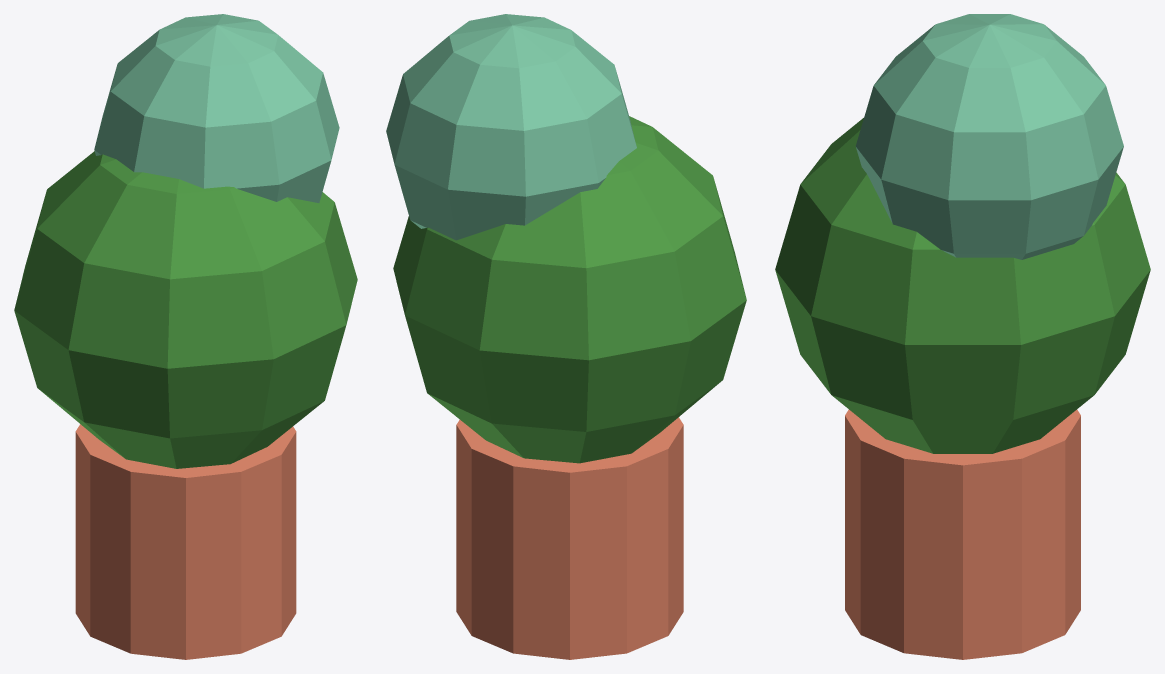
The model's file is int_tanaman.fbx.
3 views of the same model, side by side, from view 1: azimuth 30°, elevation 25°; view 2: azimuth 150°, elevation 25°; view 3: azimuth 270°, elevation 25° (orthographic). The views are drawn at different scales.
Parts seen in each view (by area): view 1: int_tanaman; view 2: int_tanaman; view 3: int_tanaman.
Part boxes in pixels (x1,y1,x2,y2): int_tanaman: [14, 14, 357, 659]; int_tanaman: [386, 14, 746, 659]; int_tanaman: [775, 14, 1150, 659].
Bounding box in the file's own units: 67.06 × 125 × 70.
Materials: 1 (1 with a texture image).
